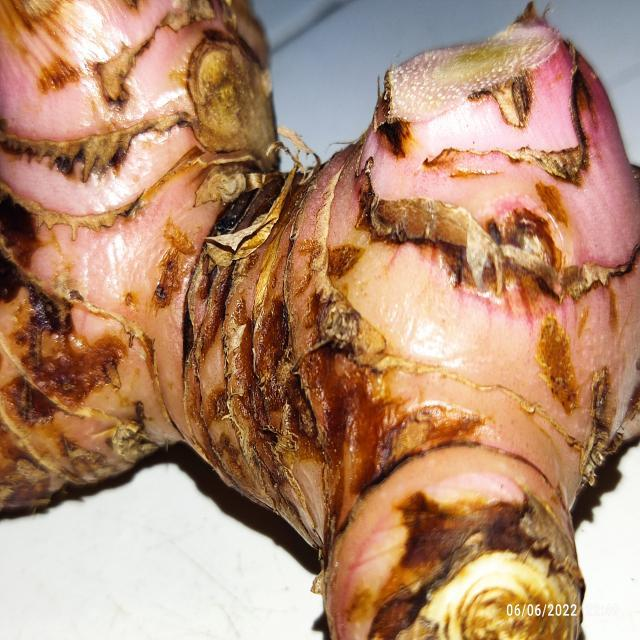ginger: (0, 0, 604, 594)
